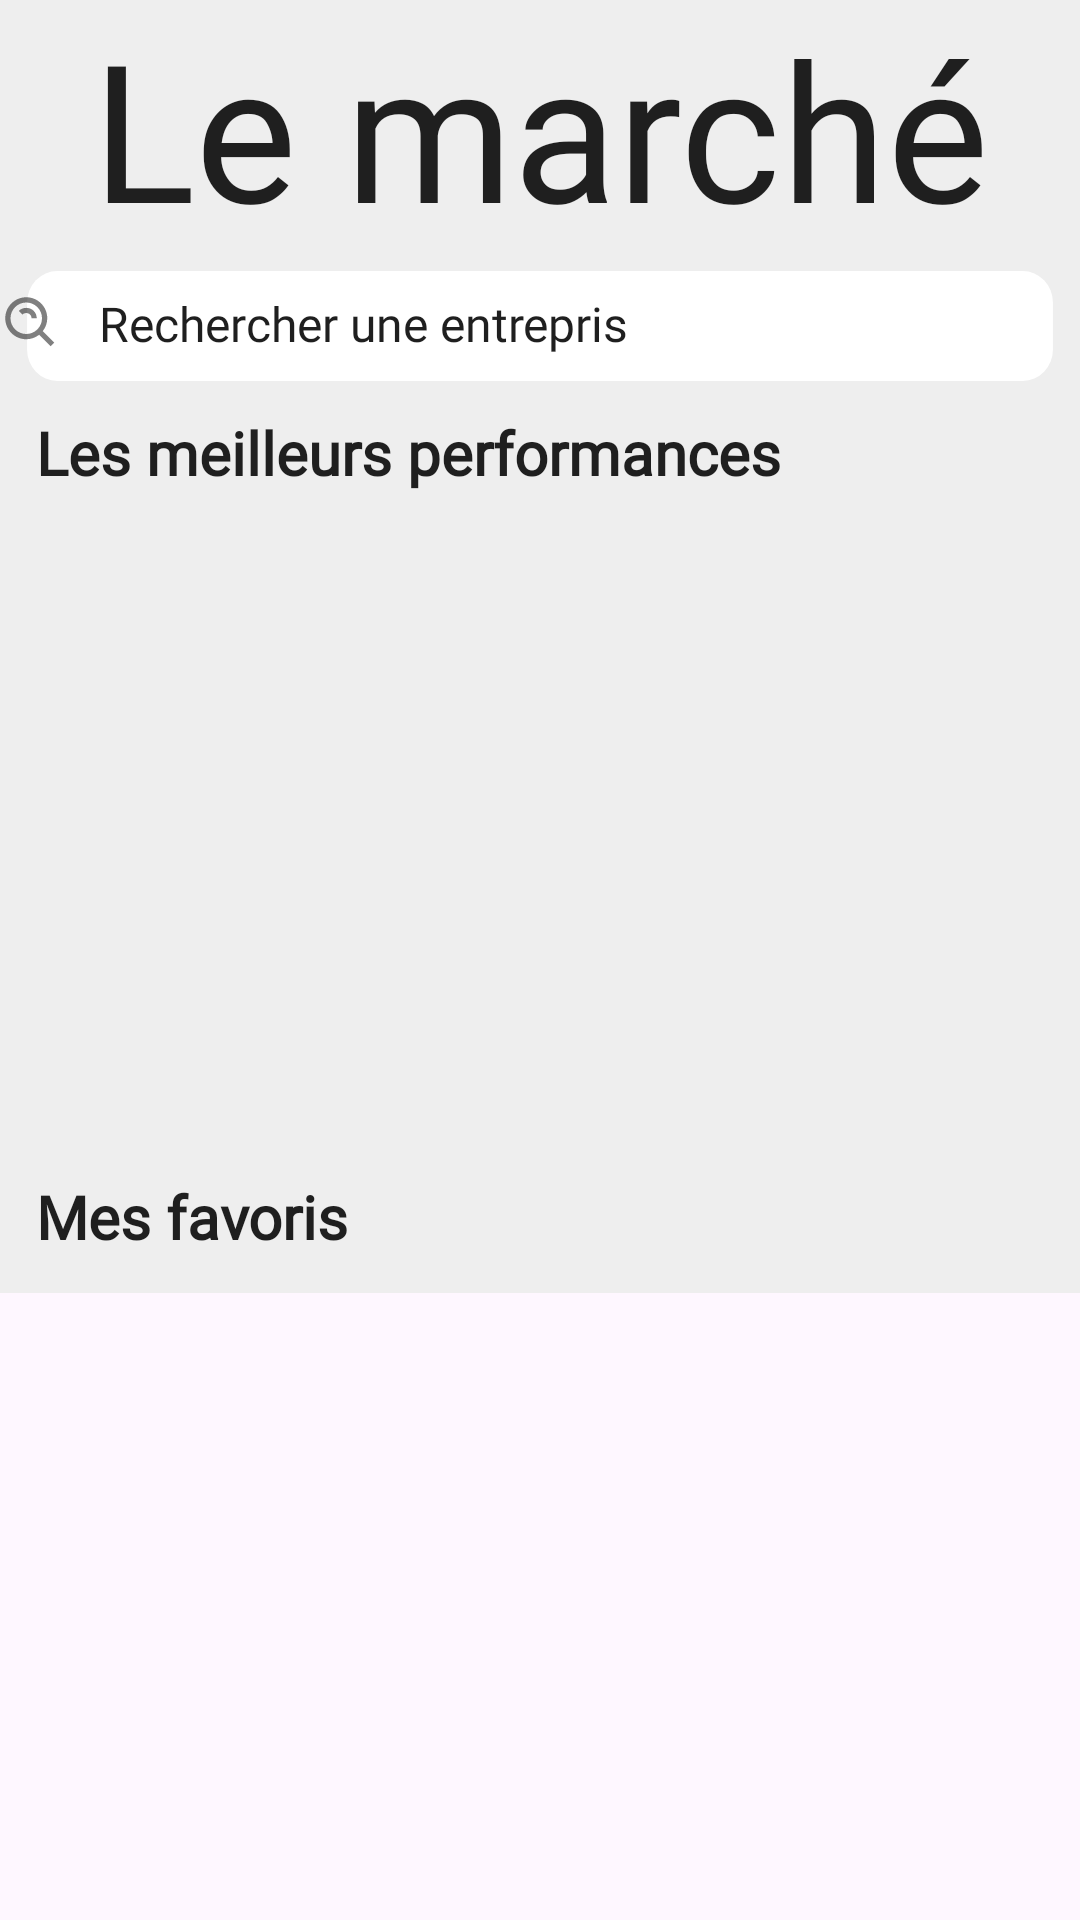

Screen size 1080px×1920px. Icon name, then its box in pixels as (x1, y1, x2, y2):
search: (5, 297, 54, 346)
